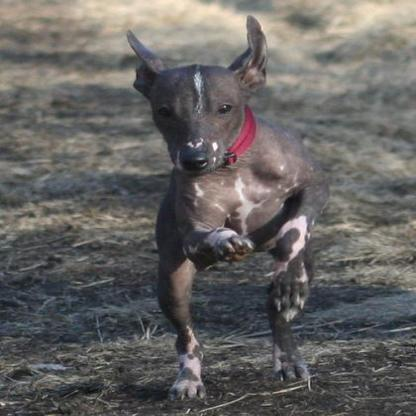Mexican_hairless: (121, 10, 332, 400)
